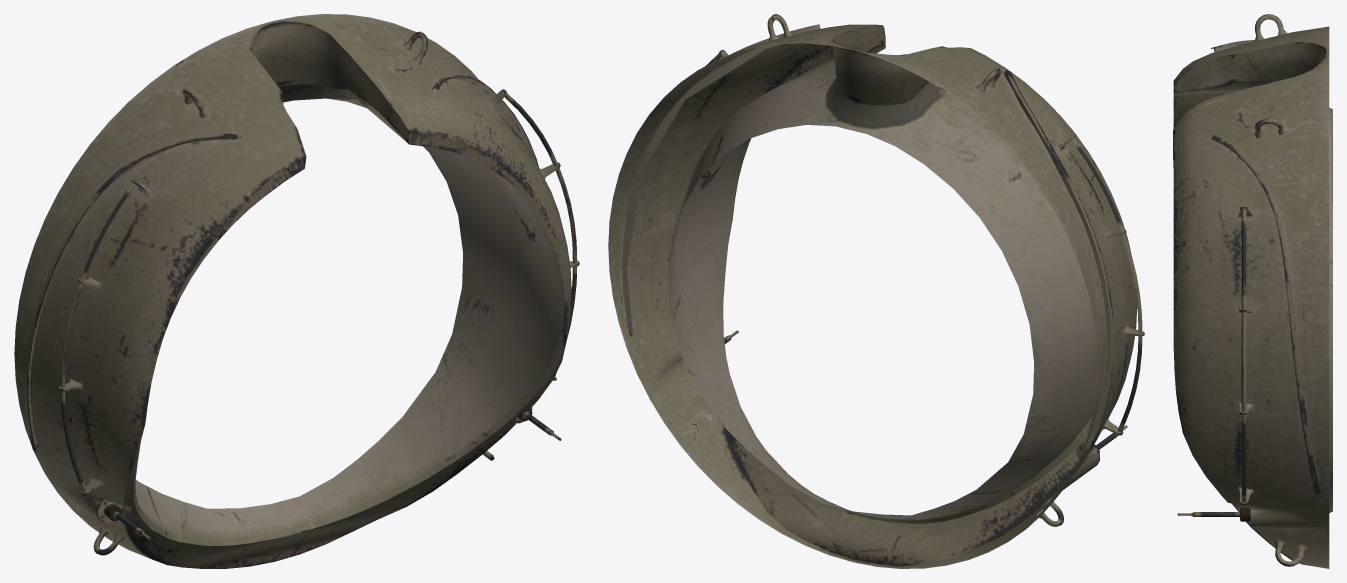
File: Turret_01.glb
3 renders of one model, left to right at view 1: azimuth 30°, elevation 25°; view 2: azimuth 150°, elevation 25°; view 3: azimuth 270°, elevation 25°, orthographic. The views are drawn at different scales.
Visible parts, largest first — view 1: set_0_group_0; view 2: set_0_group_0; view 3: set_0_group_0.
Part boxes in pixels (x1,y1,x2,y2): set_0_group_0: (14,14,579,568); set_0_group_0: (608,14,1144,568); set_0_group_0: (1173,14,1332,568).
Size of the model in its own units: 2.84 by 2.82 by 0.8295.
1 material, 1 textured.
